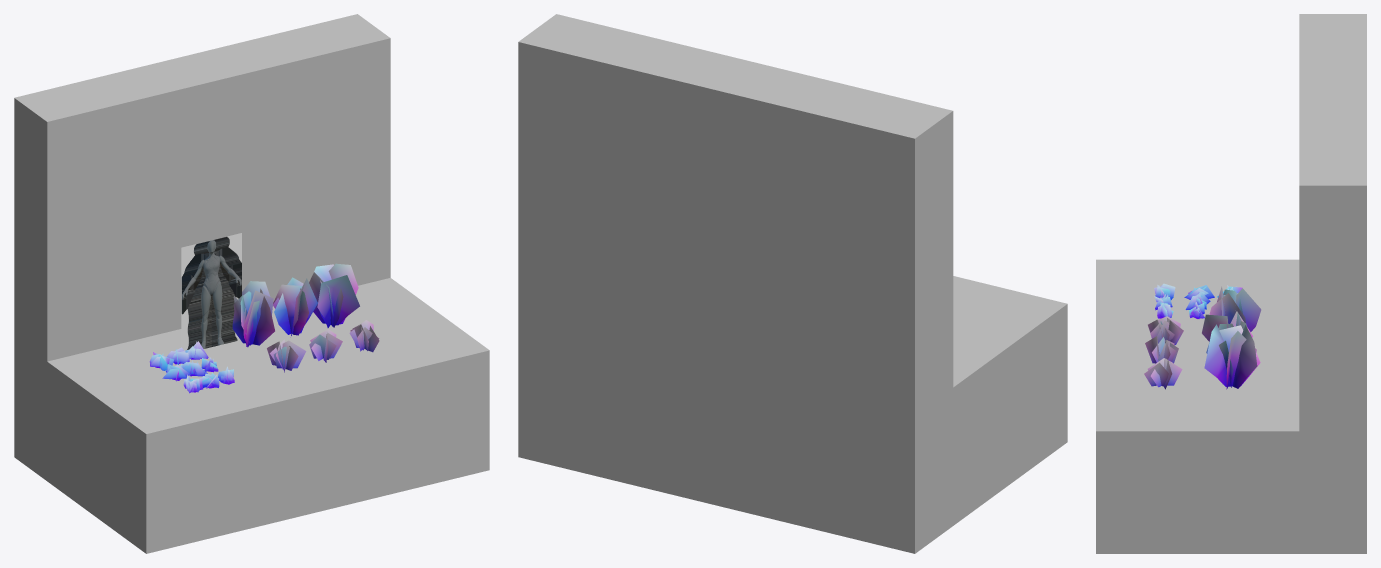
File: Grass.fbx
3 renders of one model, left to right at view 1: azimuth 30°, elevation 25°; view 2: azimuth 150°, elevation 25°; view 3: azimuth 270°, elevation 25°, orthographic. The views are drawn at different scales.
Parts seen in each view (by area): view 1: Ground, Man ref, Grass tall high.002, Grass tall high, Grass tall high.001, Grass tall low, Grass tall low.001, Grass tall low.002; view 2: Ground; view 3: Ground, Grass tall high.002, Grass tall high, Grass tall low.002, Grass tall low, Grass tall low.001, Grass tall high.001.
Boxes of the visible parts, x1,y1,x2,y2 form: Ground: [14, 14, 489, 553]; Man ref: [181, 233, 241, 350]; Grass tall high.002: [309, 263, 359, 327]; Grass tall high: [232, 281, 274, 347]; Grass tall high.001: [273, 277, 317, 335]; Grass tall low: [267, 339, 306, 372]; Grass tall low.001: [309, 329, 342, 362]; Grass tall low.002: [349, 320, 379, 352]; Ground: [518, 14, 1067, 553]; Ground: [1096, 14, 1366, 553]; Grass tall high.002: [1204, 324, 1260, 389]; Grass tall high: [1209, 286, 1261, 331]; Grass tall low.002: [1144, 358, 1182, 389]; Grass tall low: [1148, 316, 1183, 345]; Grass tall low.001: [1145, 336, 1178, 363]; Grass tall high.001: [1202, 311, 1252, 341].
Size of the model in its own units: 600 by 600 by 400.
